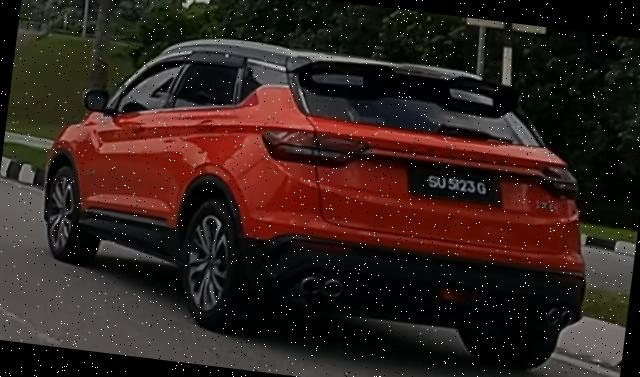License_Plate: (406, 164, 505, 208)
car: (26, 17, 612, 377)
